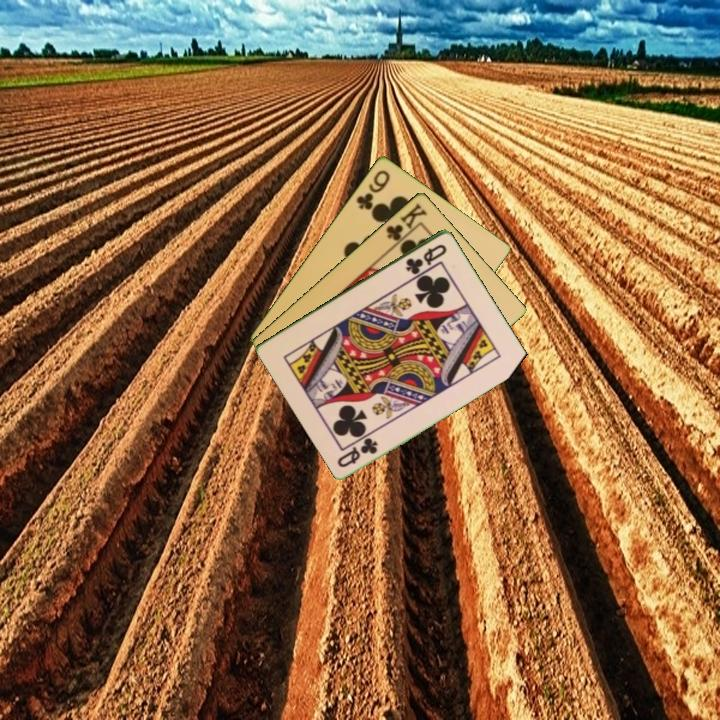9c: (353, 166, 393, 213)
Kc: (382, 199, 430, 249)
Qc: (402, 240, 450, 277), (334, 434, 381, 470)
